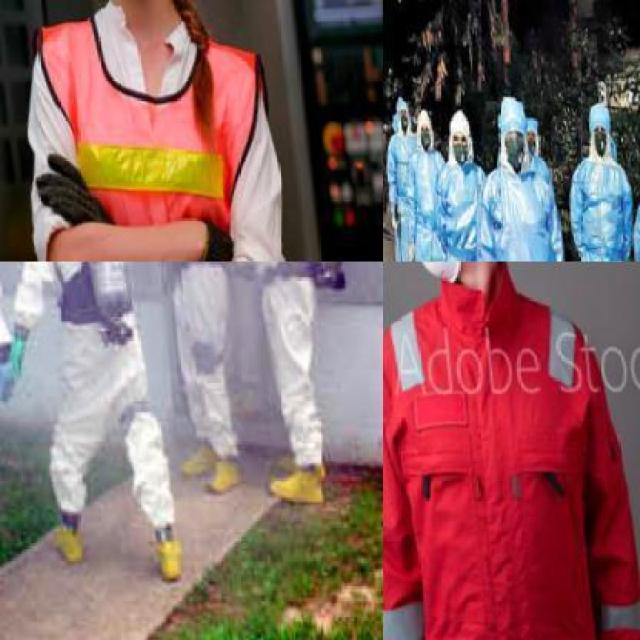Vest: (383, 271, 639, 638), (28, 9, 275, 260), (26, 261, 157, 457), (231, 262, 337, 449), (151, 262, 238, 418), (469, 168, 578, 260), (562, 155, 638, 260), (426, 158, 497, 260), (398, 146, 457, 260), (383, 135, 428, 260)
